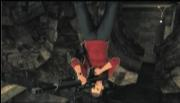gun: (30, 70, 112, 94)
